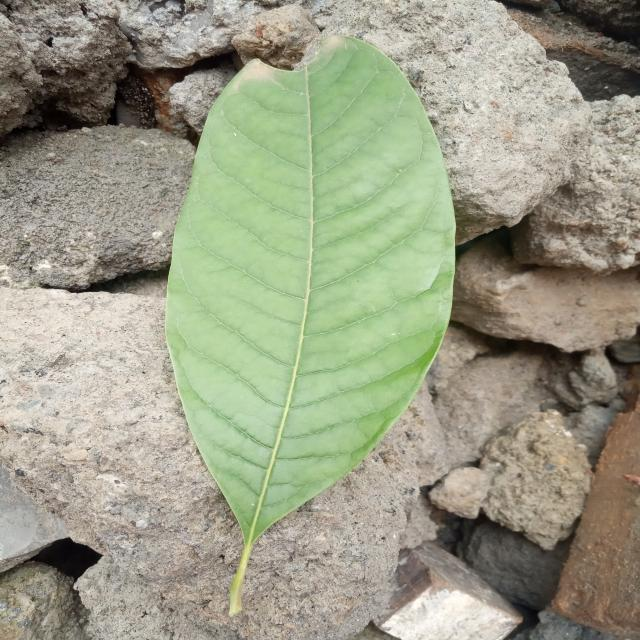coffee: (165, 36, 455, 615)
